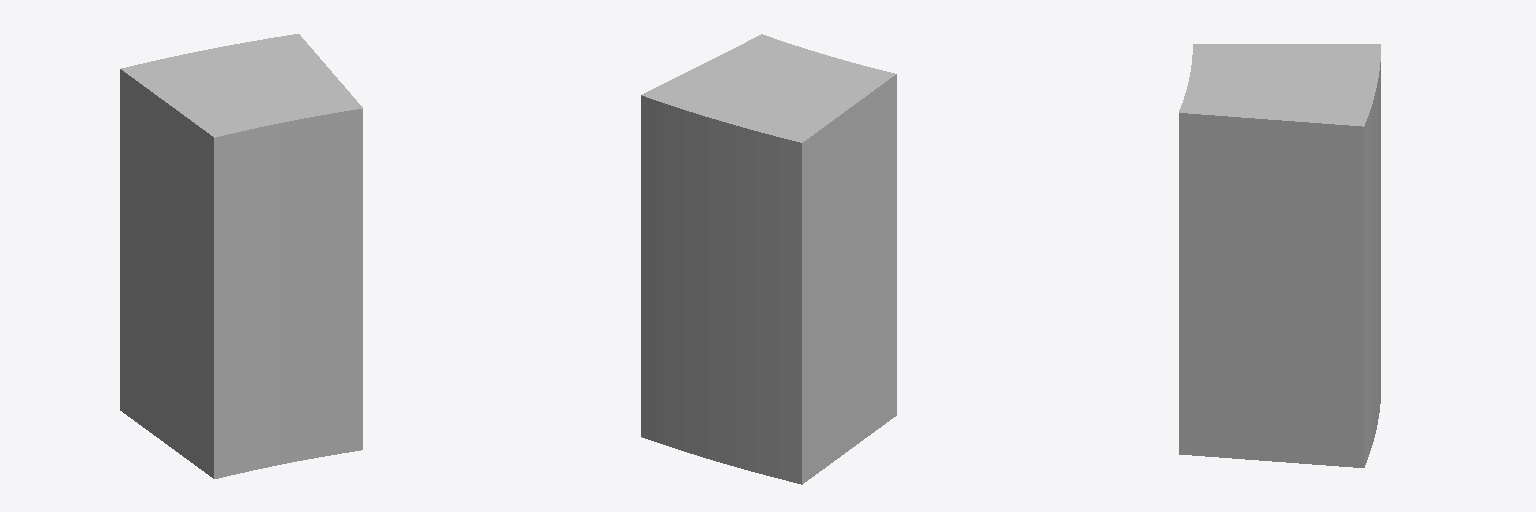
File: platform_wide_size033.obj
3 views of the same model, side by side, from view 1: azimuth 30°, elevation 25°; view 2: azimuth 150°, elevation 25°; view 3: azimuth 270°, elevation 25° (orthographic).
Visible parts, largest first — view 1: MeshBody12; view 2: MeshBody12; view 3: MeshBody12.
Part boxes in pixels (x1,y1,x2,y2): MeshBody12: (120, 34, 362, 478); MeshBody12: (641, 34, 896, 484); MeshBody12: (1179, 44, 1380, 467).
Size of the model in its own units: 5.21 by 10 by 5.38.